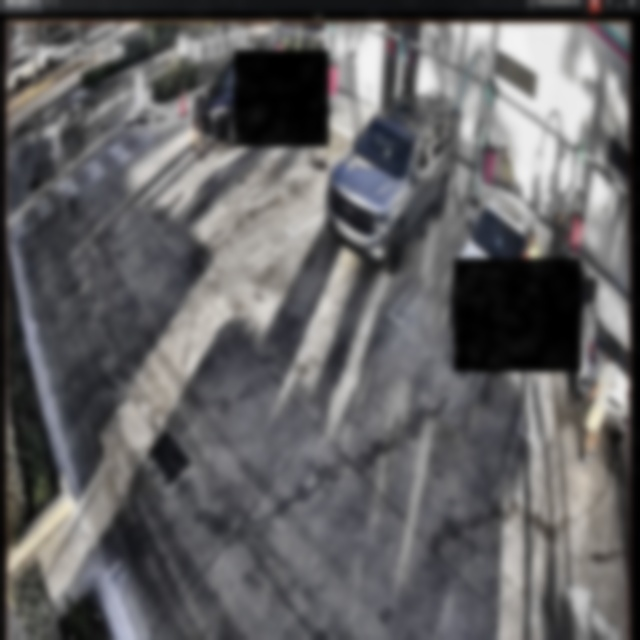Car: (323, 81, 450, 273), (451, 188, 538, 351), (195, 50, 284, 152)
